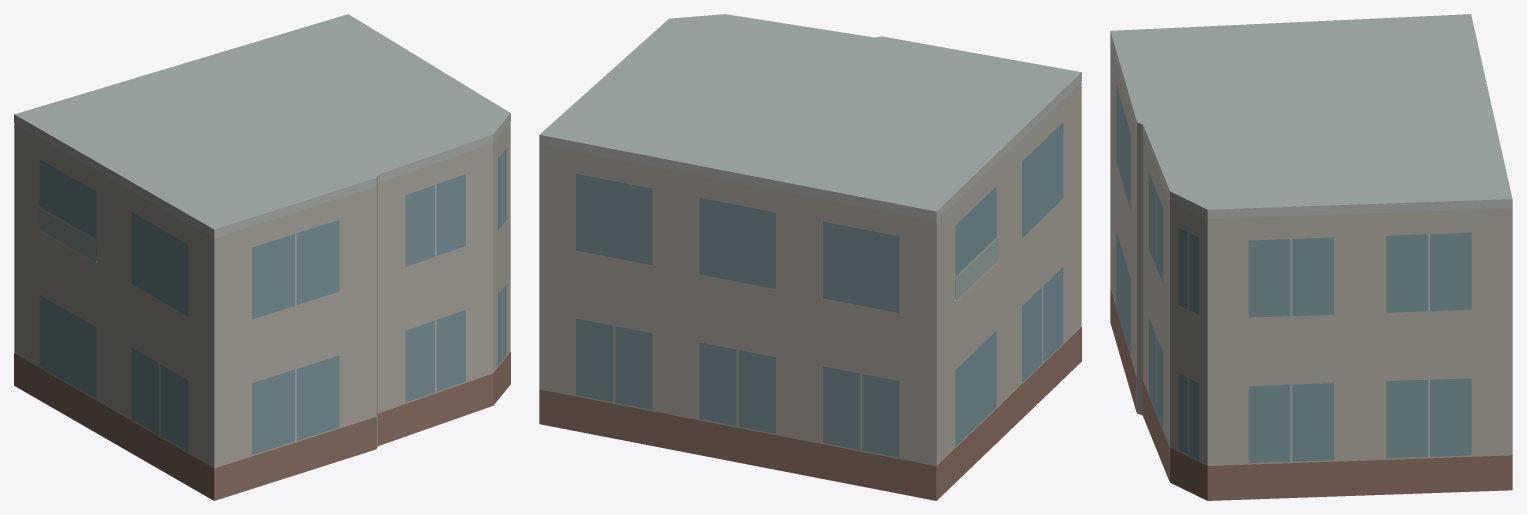
Rendered from survey-upis-32628600.glb.
3 renders of one model, left to right at view 1: azimuth 30°, elevation 25°; view 2: azimuth 150°, elevation 25°; view 3: azimuth 270°, elevation 25°, orthographic. The views are drawn at different scales.
Visible parts, largest first — view 1: survey-upis-32628600.tmp; view 2: survey-upis-32628600.tmp; view 3: survey-upis-32628600.tmp.
Boxes of the visible parts, box(x1,y1,x2,y2) form: survey-upis-32628600.tmp: box(14, 14, 510, 500); survey-upis-32628600.tmp: box(539, 14, 1081, 500); survey-upis-32628600.tmp: box(1110, 14, 1512, 500).
Size of the model in its own units: 10.97 by 7.6 by 9.53.
